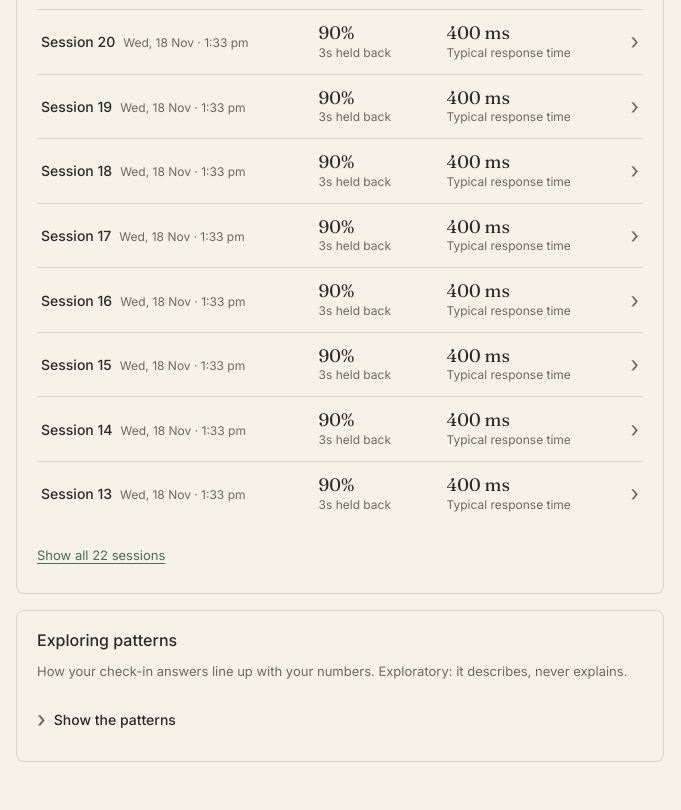
Test: Progress screen › draws only answers with a median, with an axis, and the pattern sentence
(page scrolled)
What coordinates should you click on to do the following:
click the heading "Show the patterns"
I would click on:
 (115, 719)
Its box is [54,710,176,728].
(page scrolled)
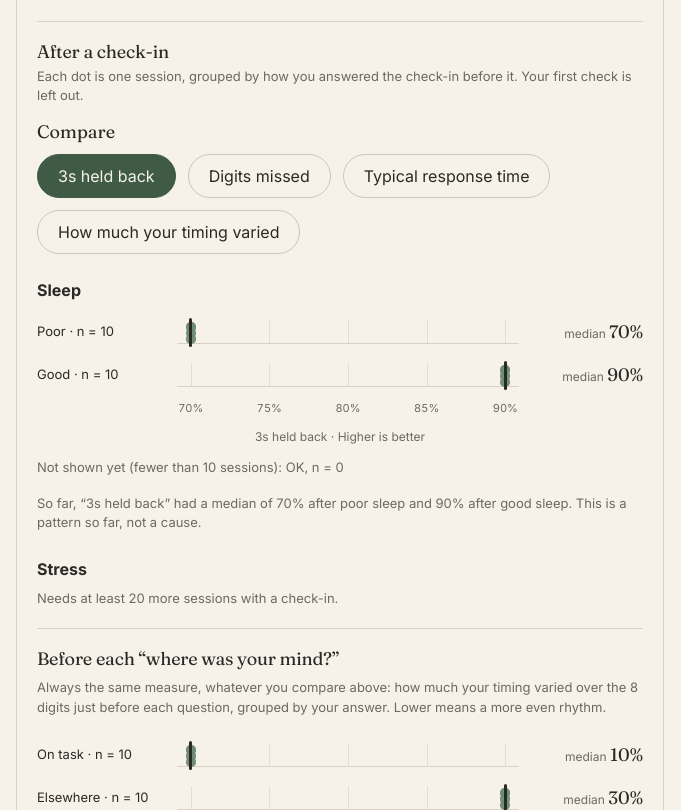
Expected: the text "Poor · n = 10" is shown, [37,323,114,339]
Expected: the text "Good · n = 10" is shown, [37,366,118,382]
Expected: the element "Sleep" shows "Not shown yet (fewer than 10 sessions): OK, n = 0", [37,278,643,533]
